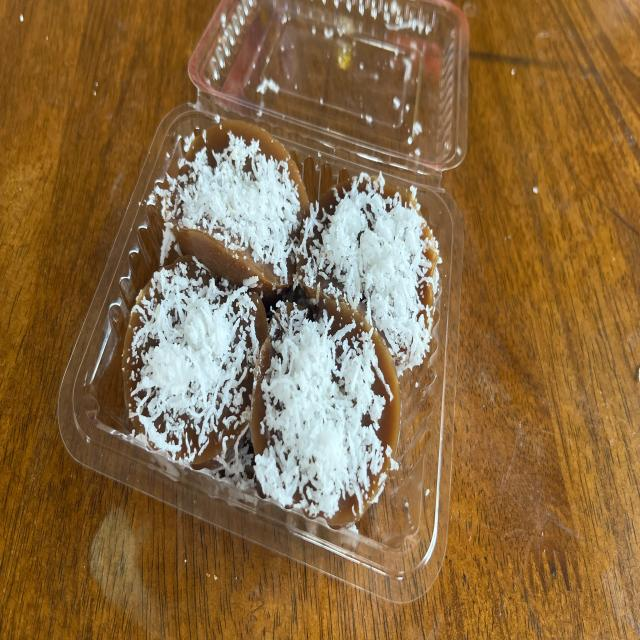Kuih lompang: (250, 291, 400, 527), (122, 258, 268, 467), (298, 171, 439, 373), (170, 120, 310, 298)
